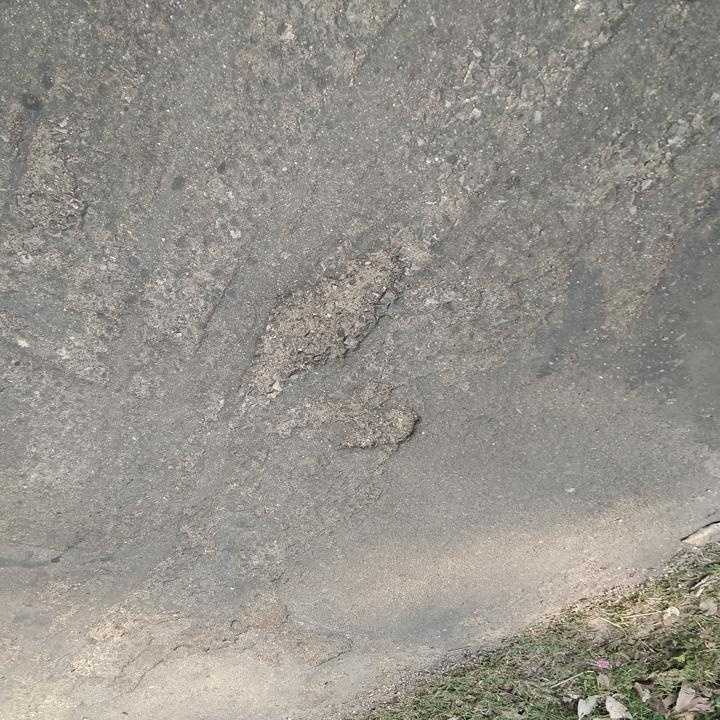pothole: (236, 250, 402, 403), (10, 124, 92, 232), (335, 400, 424, 455)
